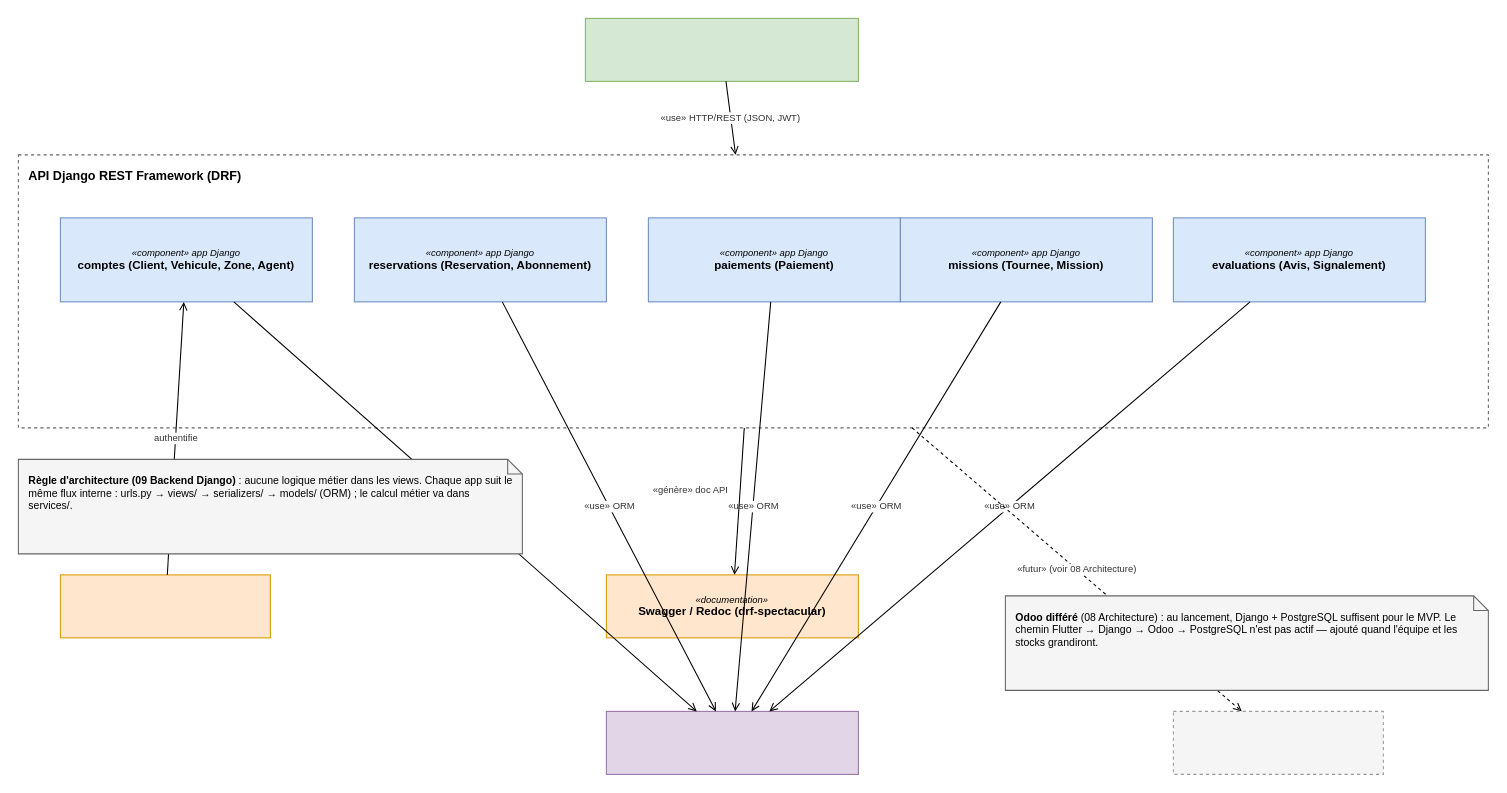
This 1507x793 diagram has some shape labels left out. Each missing label, with the centre of its shape:
"«base de données» PostgreSQL 16" belongs at [731,742].
"«component» App Mobile Flutter" belongs at [721,49].
"«futur — différé» Odoo" belongs at [1277,742].
"«sécurité» JWT Auth" belongs at [164,606].
